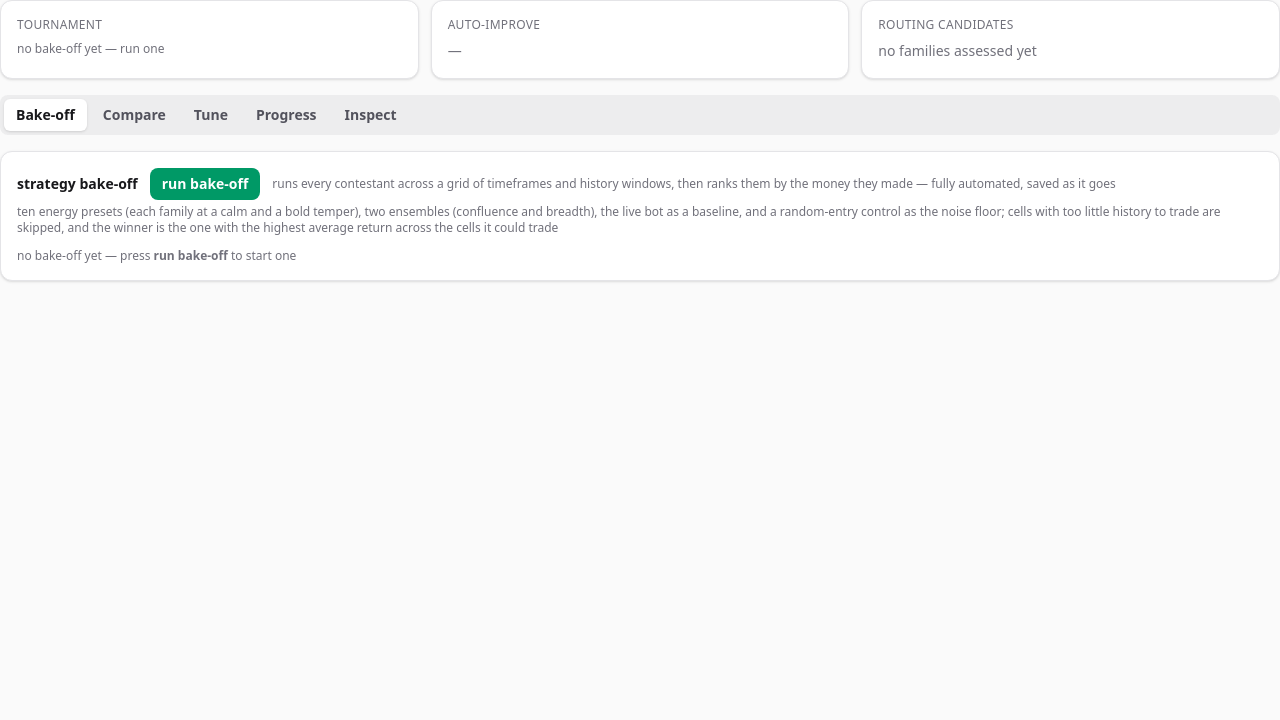
ResearchScreen › drills from a comparison column into that run's report on Inspect
# Move to Compare and wait for the strategy column to render.
Click the button "Compare". click: (134, 115)
box: [91,99,178,131]
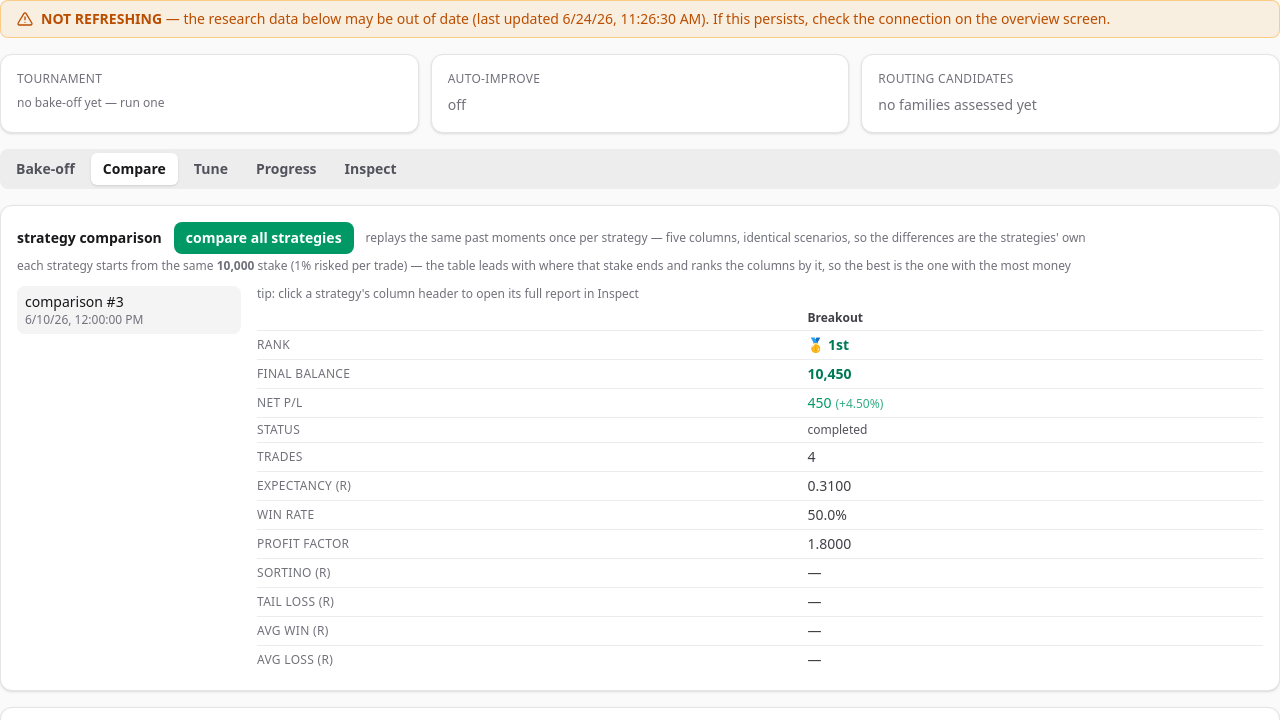
Expected: the button "Breakout" is shown
# Clicking the column header hands off to Inspect with run #42 selected.
Click the button "Breakout". click: (835, 318)
box: [807,310,863,326]
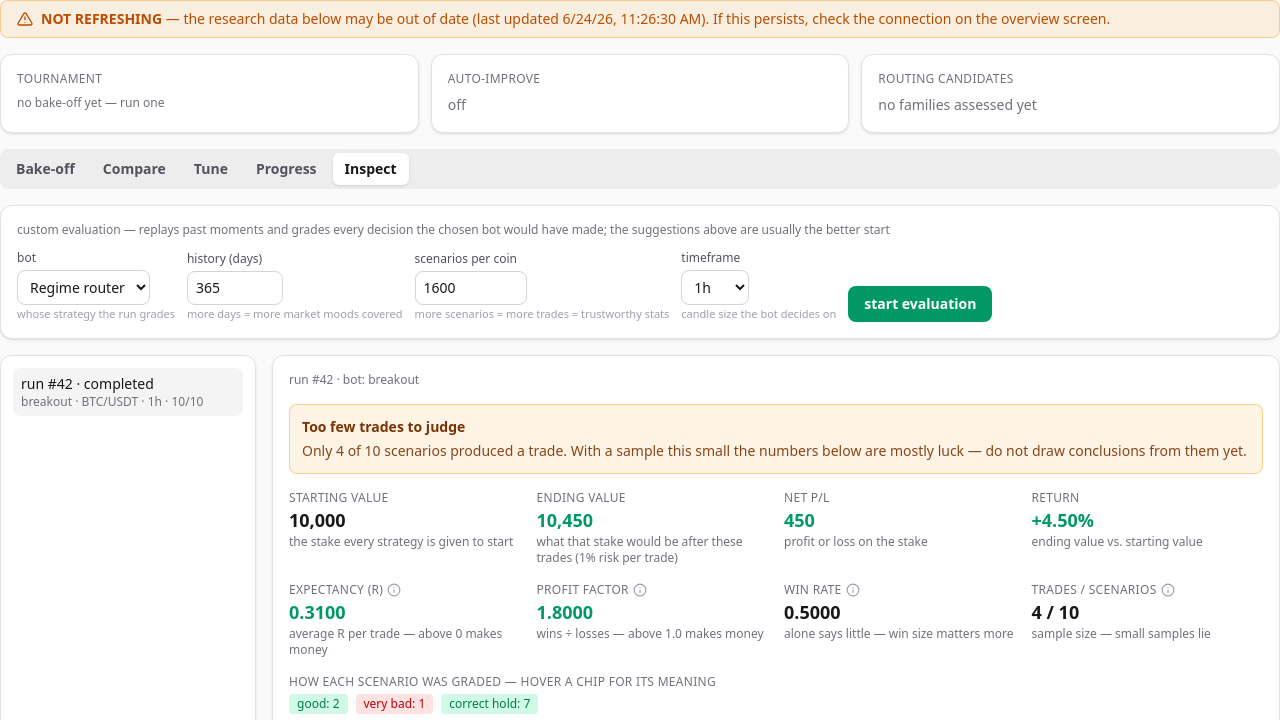
Expected: the text "run #42 · bot: breakout" is shown, [289,371,419,388]
Expected: the button "start evaluation" is shown, [848,286,992,322]
